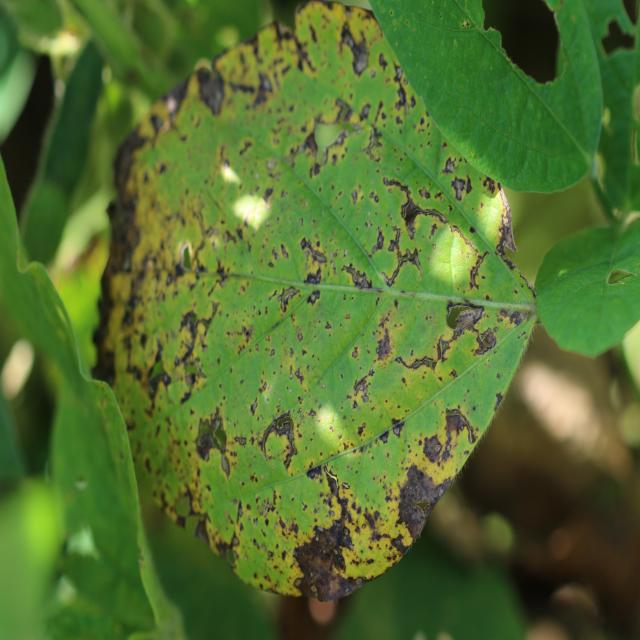Bacterial_Blight: (364, 190, 431, 291), (389, 458, 448, 543), (299, 99, 359, 174), (292, 525, 349, 600), (105, 180, 145, 286), (173, 302, 217, 388), (172, 482, 218, 554), (162, 67, 213, 126), (436, 155, 475, 203), (494, 186, 519, 256), (340, 22, 370, 74), (600, 18, 636, 56), (299, 235, 328, 282), (148, 353, 173, 406), (390, 63, 411, 117), (495, 305, 534, 334), (393, 350, 436, 375), (252, 488, 280, 525), (206, 261, 234, 297), (468, 250, 490, 291), (341, 263, 372, 291), (353, 366, 377, 400), (373, 325, 394, 362), (276, 285, 301, 313), (196, 428, 215, 461), (422, 434, 444, 462), (476, 327, 498, 354), (323, 466, 341, 495), (179, 308, 198, 333), (371, 226, 385, 255), (150, 112, 166, 134), (306, 463, 322, 481), (392, 419, 405, 438), (221, 453, 230, 477), (294, 367, 305, 385), (360, 102, 371, 119), (418, 186, 431, 200), (280, 243, 290, 259), (233, 435, 246, 447), (250, 399, 258, 416), (495, 391, 504, 406), (351, 347, 359, 359), (325, 321, 332, 330), (297, 332, 303, 342), (496, 373, 501, 380)
Soybean: (97, 2, 536, 600)
